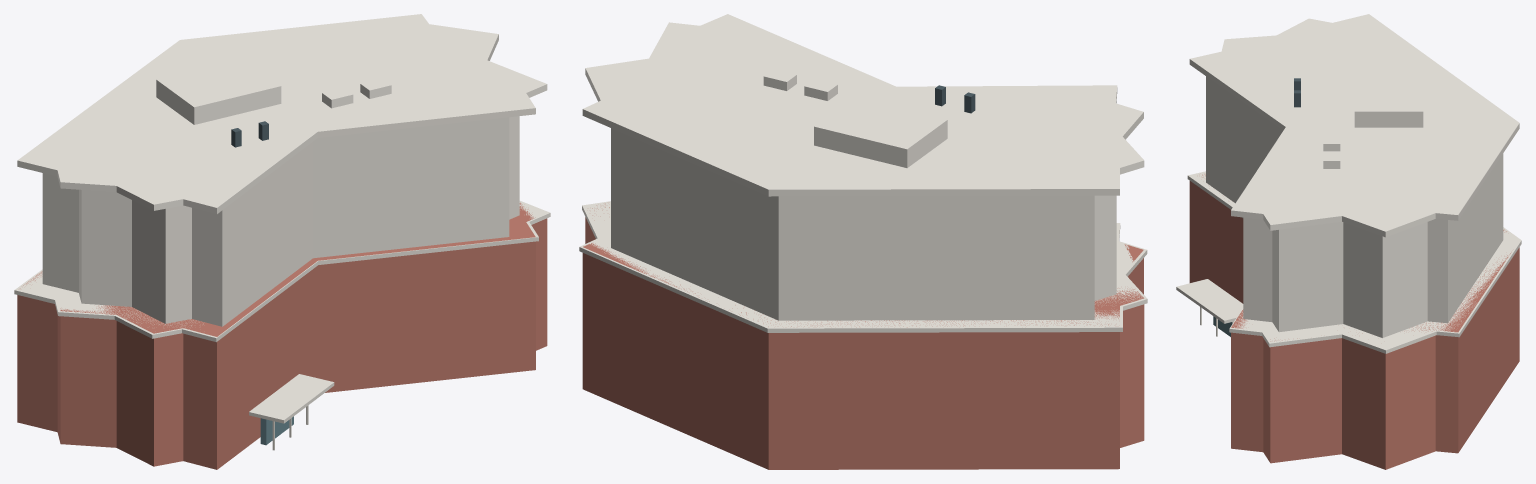
Rendered from seal_of_love_foundation_building.glb.
3 views of the same model, side by side, from view 1: azimuth 30°, elevation 25°; view 2: azimuth 150°, elevation 25°; view 3: azimuth 270°, elevation 25° (orthographic). The views are drawn at different scales.
Parts seen in each view (by area): view 1: Seal of Love Foundation Building_base, Seal of Love Foundation Building_upper, Seal of Love Foundation Building_parapet, Seal of Love Foundation Building_roof_plant, Seal of Love Foundation Building_band, Seal of Love Foundation Building_canopy; view 2: Seal of Love Foundation Building_base, Seal of Love Foundation Building_upper, Seal of Love Foundation Building_parapet, Seal of Love Foundation Building_band, Seal of Love Foundation Building_roof_plant; view 3: Seal of Love Foundation Building_parapet, Seal of Love Foundation Building_base, Seal of Love Foundation Building_upper, Seal of Love Foundation Building_band, Seal of Love Foundation Building_roof_plant, Seal of Love Foundation Building_canopy.
Part boxes in pixels (x1,y1,x2,y2): Seal of Love Foundation Building_base: (17, 202, 547, 469); Seal of Love Foundation Building_upper: (42, 116, 519, 326); Seal of Love Foundation Building_parapet: (17, 14, 547, 213); Seal of Love Foundation Building_roof_plant: (156, 58, 281, 124); Seal of Love Foundation Building_band: (14, 201, 550, 342); Seal of Love Foundation Building_canopy: (249, 374, 334, 423); Seal of Love Foundation Building_base: (582, 203, 1144, 469); Seal of Love Foundation Building_upper: (611, 128, 1116, 320); Seal of Love Foundation Building_parapet: (582, 14, 1144, 196); Seal of Love Foundation Building_band: (579, 201, 1147, 332); Seal of Love Foundation Building_roof_plant: (814, 97, 947, 167); Seal of Love Foundation Building_parapet: (1189, 14, 1519, 237); Seal of Love Foundation Building_base: (1189, 174, 1519, 469); Seal of Love Foundation Building_upper: (1206, 76, 1503, 337); Seal of Love Foundation Building_band: (1187, 171, 1521, 353); Seal of Love Foundation Building_roof_plant: (1354, 73, 1423, 127); Seal of Love Foundation Building_canopy: (1176, 279, 1243, 323).
Bounding box in the file's own units: 45.52 × 24.5 × 30.16.
